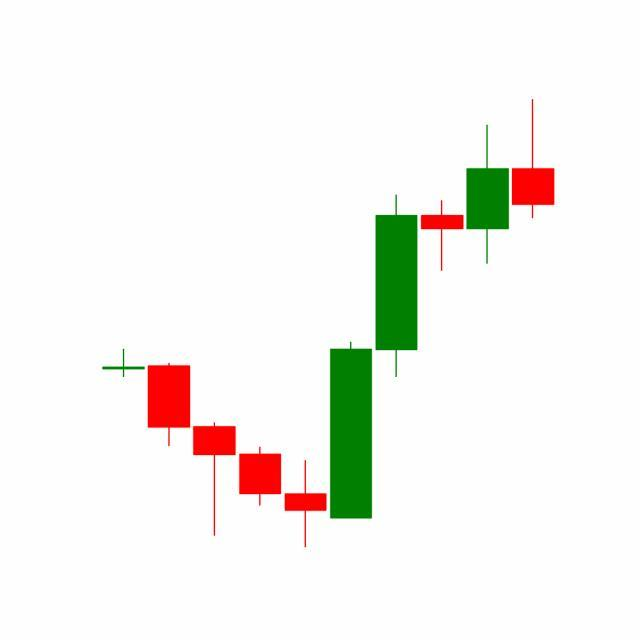Hikkake Pattern: (283, 120, 512, 548)
